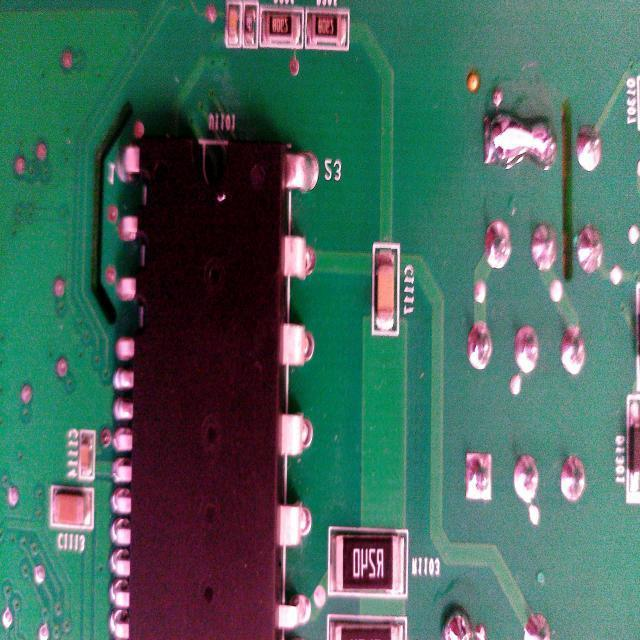Soldering shorted: (480, 112, 562, 170)
